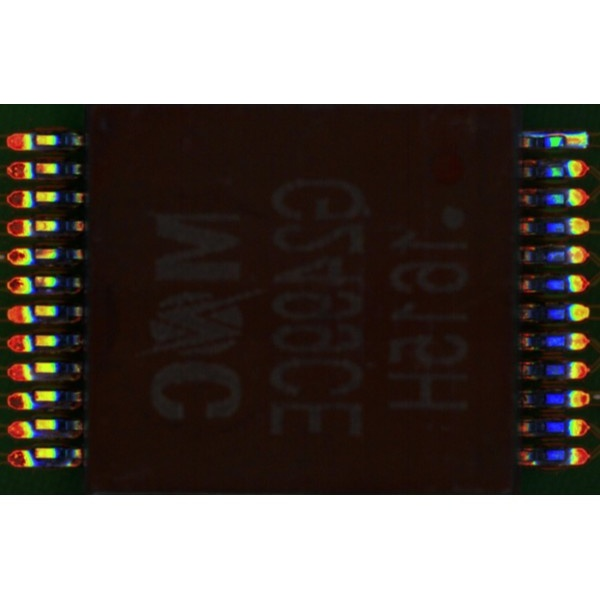Bad_podu: (523, 133, 561, 138)
Bad_qiaojiao: (554, 136, 576, 146)
